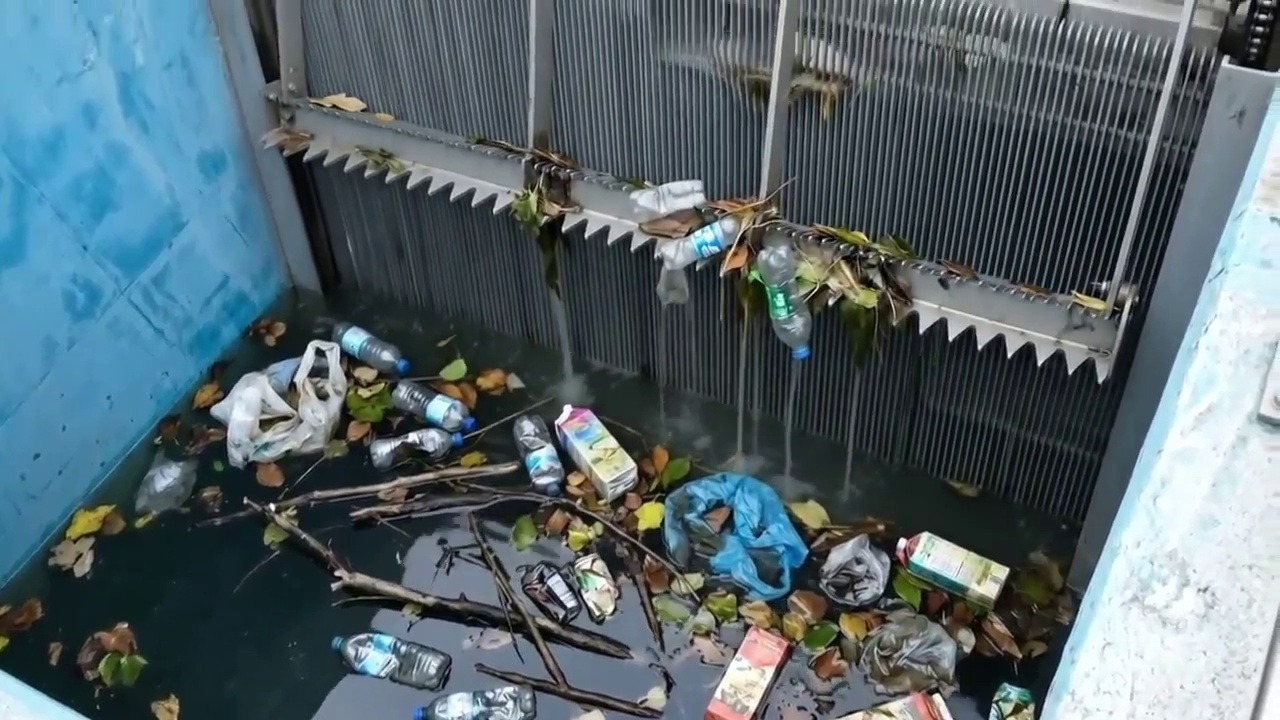debris: (511, 405, 1073, 719), (641, 200, 887, 359), (213, 368, 374, 466), (369, 384, 474, 468), (335, 633, 450, 686), (412, 685, 536, 719), (333, 322, 408, 374), (135, 454, 193, 513)
